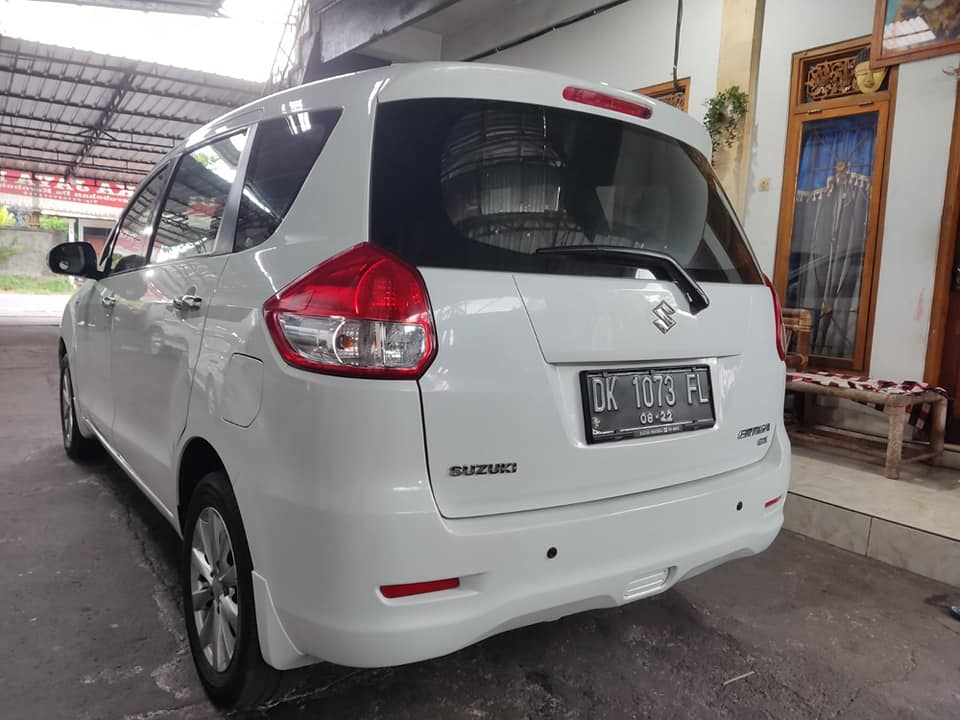plate: (566, 353, 726, 443)
